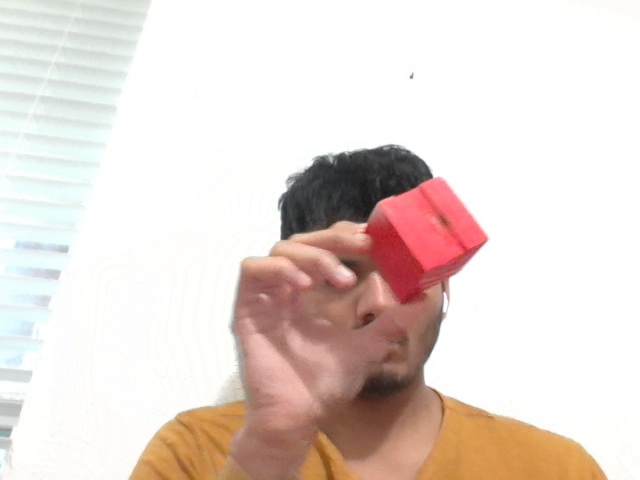RedBlock: (365, 175, 489, 306)
